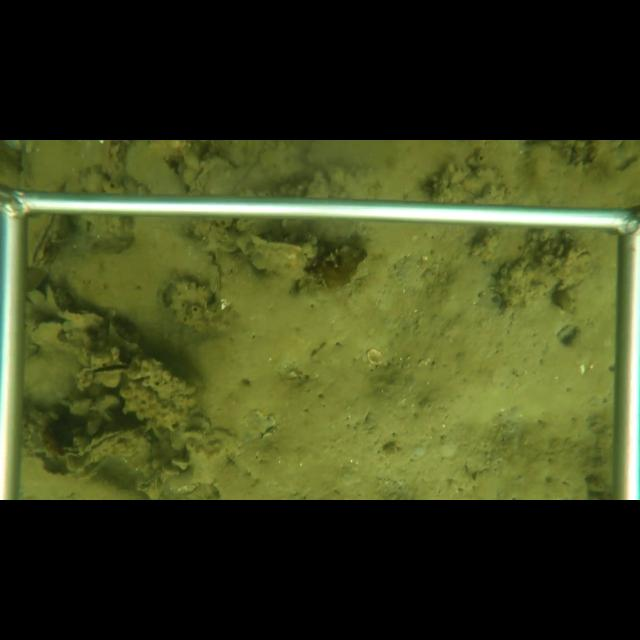Oyster-Closed: (234, 230, 309, 280), (201, 250, 224, 291), (554, 325, 577, 342)
Oyster-Open: (74, 355, 134, 392), (30, 214, 71, 268)
